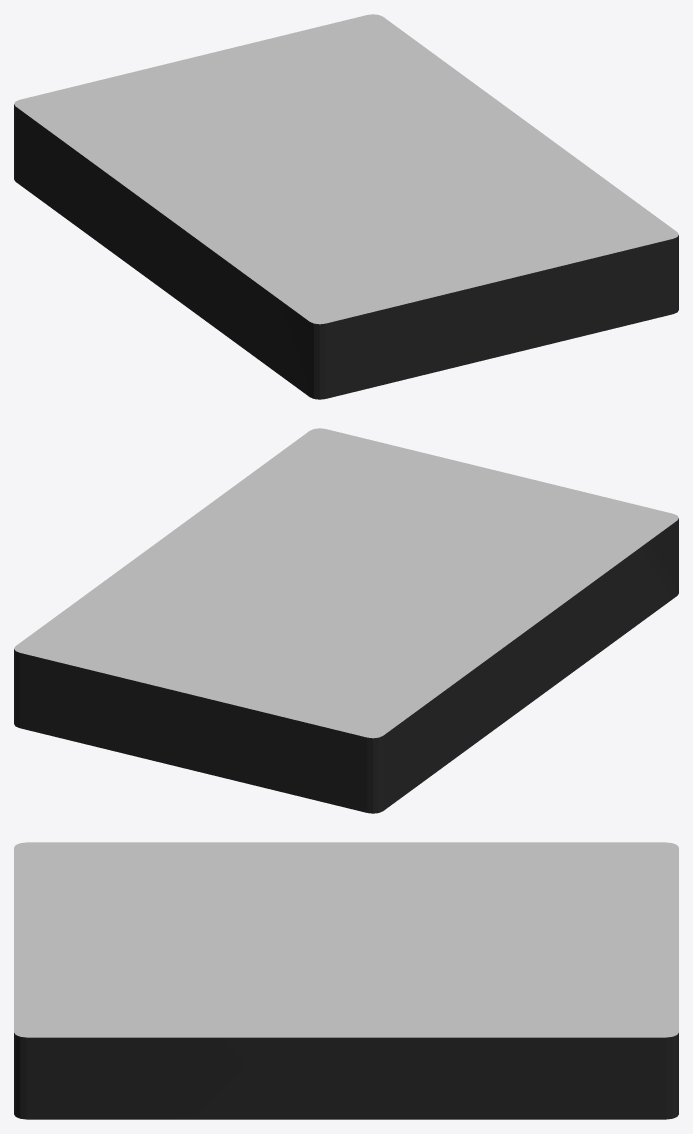
Rendered from drive Seagate BarraCuda 2TB.fbx.
3 renders of one model, top to bottom at view 1: azimuth 30°, elevation 25°; view 2: azimuth 150°, elevation 25°; view 3: azimuth 270°, elevation 25°, orthographic. The views are drawn at different scales.
Parts seen in each view (by area): view 1: DRIVE1; view 2: DRIVE1; view 3: DRIVE1.
Part boxes in pixels (bbox=[...]): DRIVE1: bbox=[14, 14, 678, 399]; DRIVE1: bbox=[14, 428, 678, 813]; DRIVE1: bbox=[14, 842, 678, 1119].
Bounding box in the file's own units: 10.2 × 2 × 14.7.
